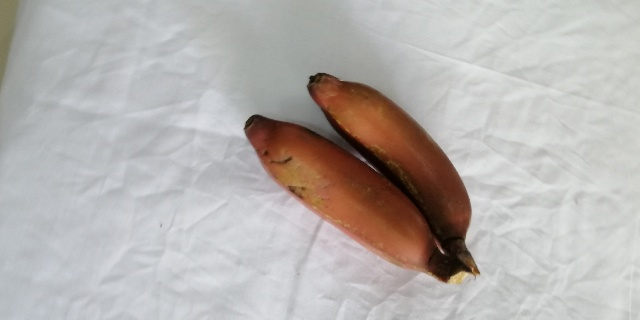banana_red: (241, 112, 468, 285), (305, 71, 486, 276)
